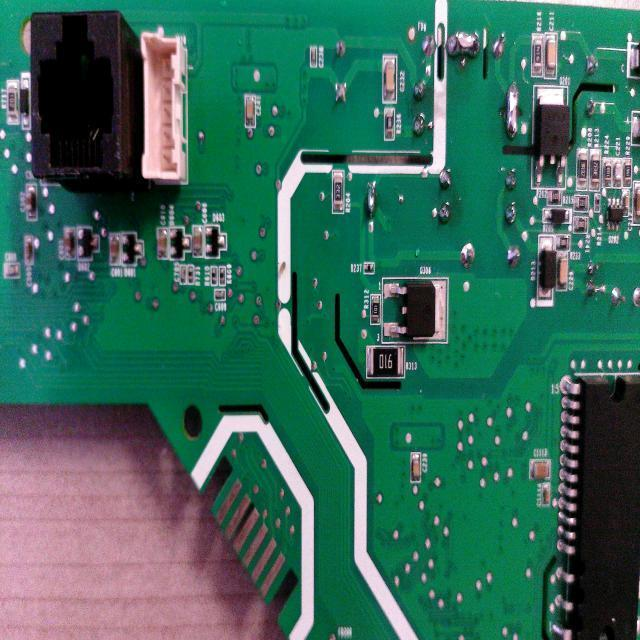Soldering shorted: (443, 29, 483, 66), (502, 78, 520, 149), (359, 176, 378, 222)
